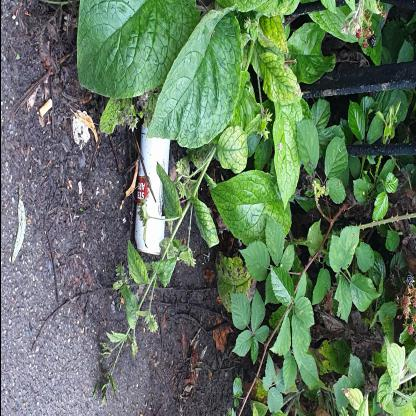metal: (134, 122, 170, 256)
